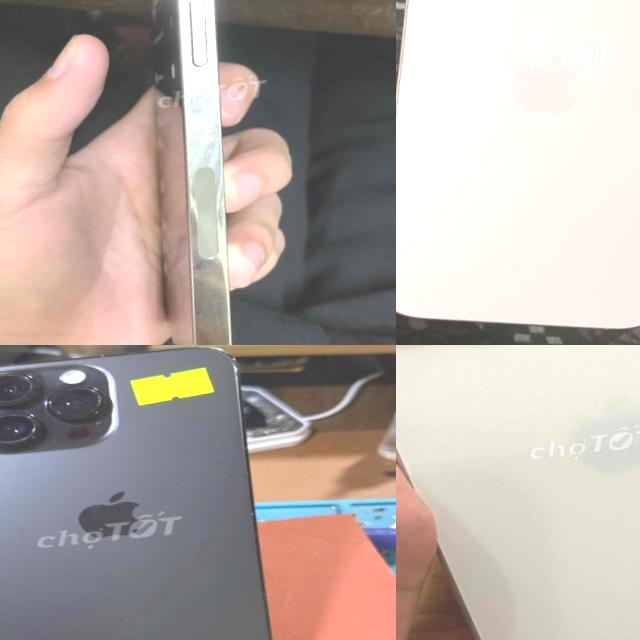gen_14: (0, 345, 293, 640), (99, 0, 283, 345)
gen_15: (396, 345, 640, 640)
gen_16: (396, 0, 640, 328)
